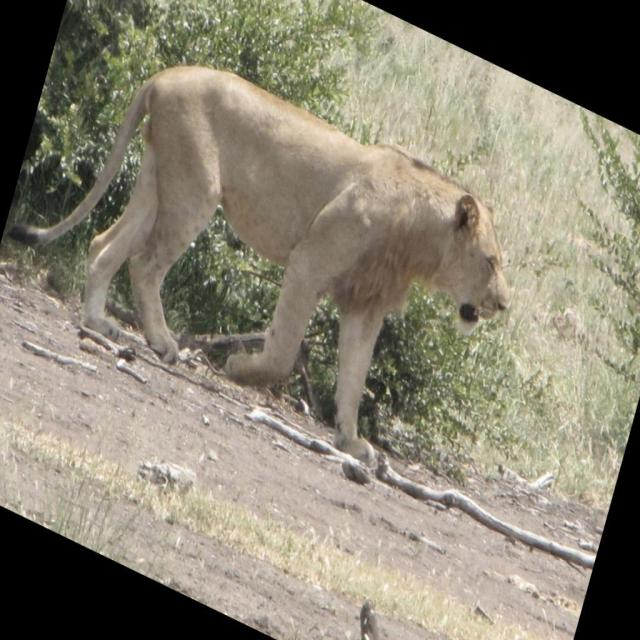Lion: (0, 0, 535, 507)
